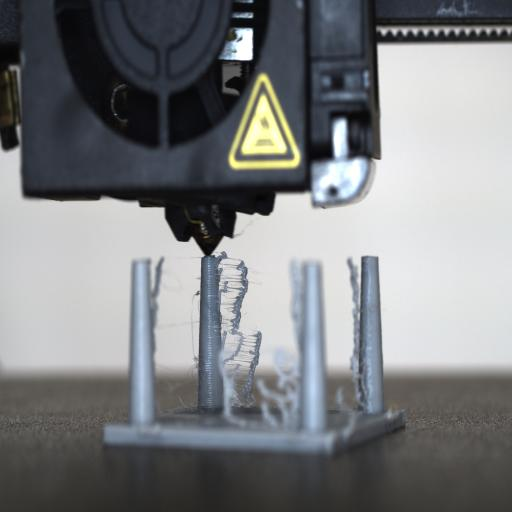stringing: (144, 252, 357, 428), (138, 254, 188, 406)
